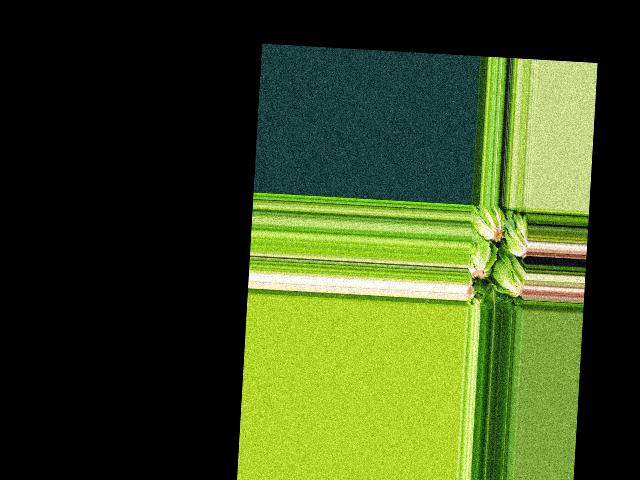lettuce: (479, 285, 505, 311)
